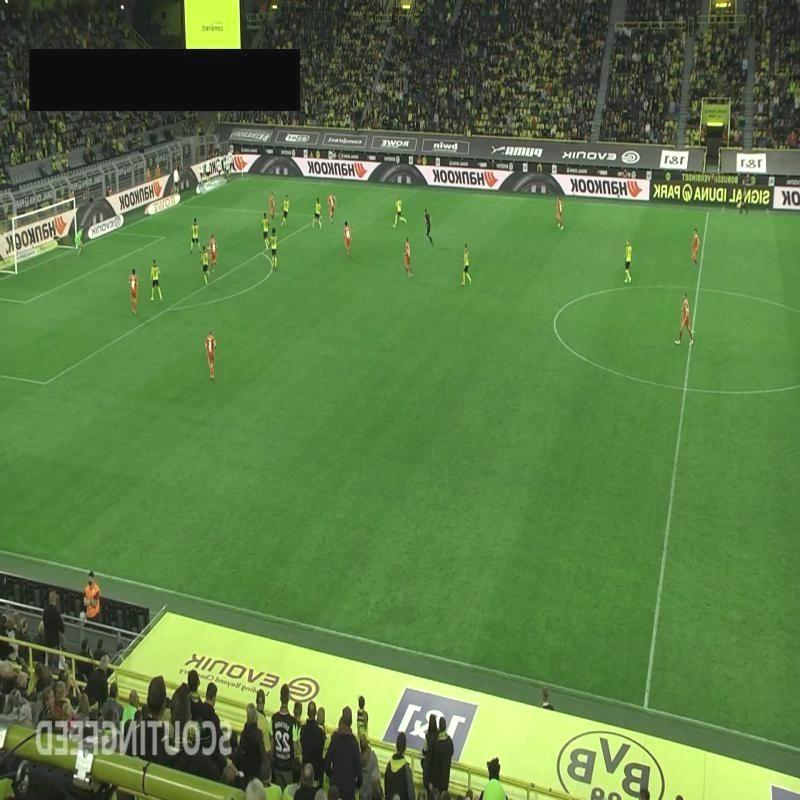1: (236, 172, 250, 186)
10: (256, 246, 270, 260)
11: (160, 303, 174, 317)
12: (36, 374, 54, 393)
13: (701, 203, 715, 216)
14: (686, 279, 709, 300)
15: (673, 378, 699, 399)
16: (632, 698, 660, 720)
2: (171, 198, 185, 212)
3: (108, 224, 122, 238)
7: (158, 230, 172, 244)
8: (17, 294, 35, 312)
9: (314, 210, 328, 224)
c: (540, 302, 570, 332)
